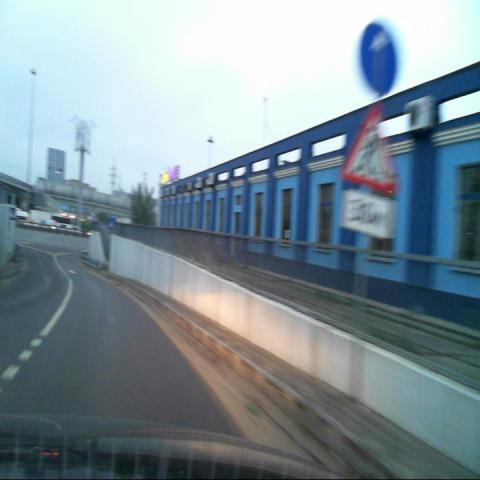8_1_1: (338, 188, 393, 241)
